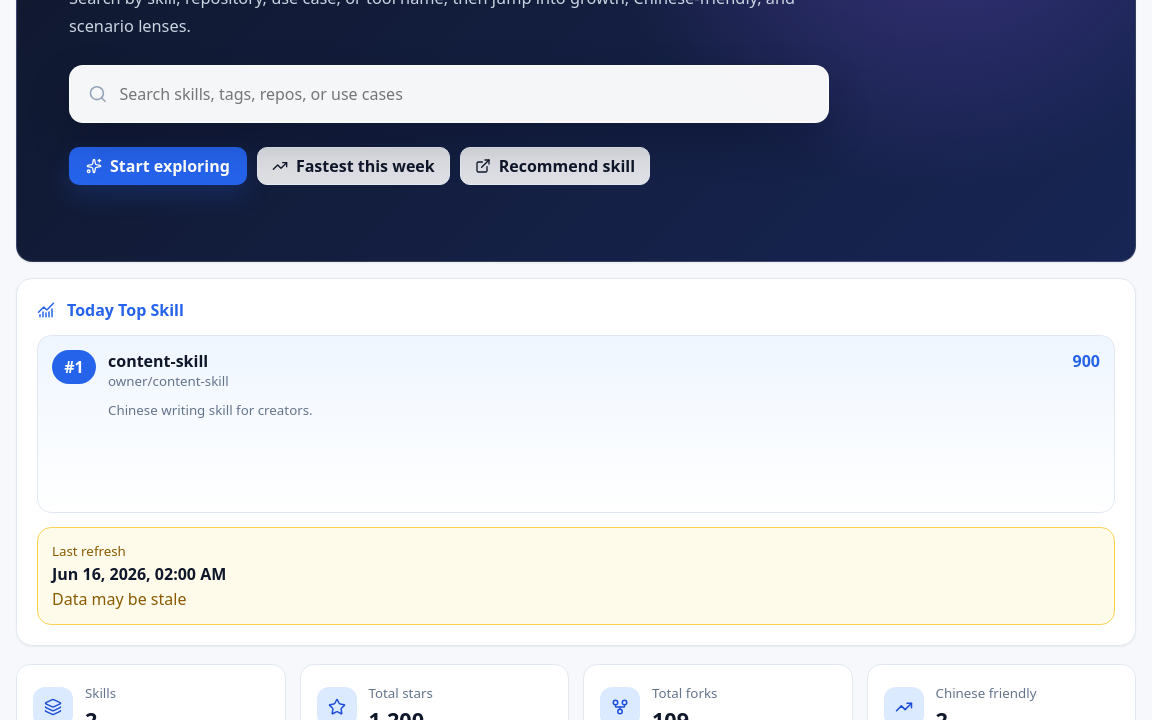
Test: App › opens a detail drawer with GitHub actions and skill paths
(page scrolled)
Click the text "content-skill": click(158, 361) [108,350,208,372]
(page scrolled)
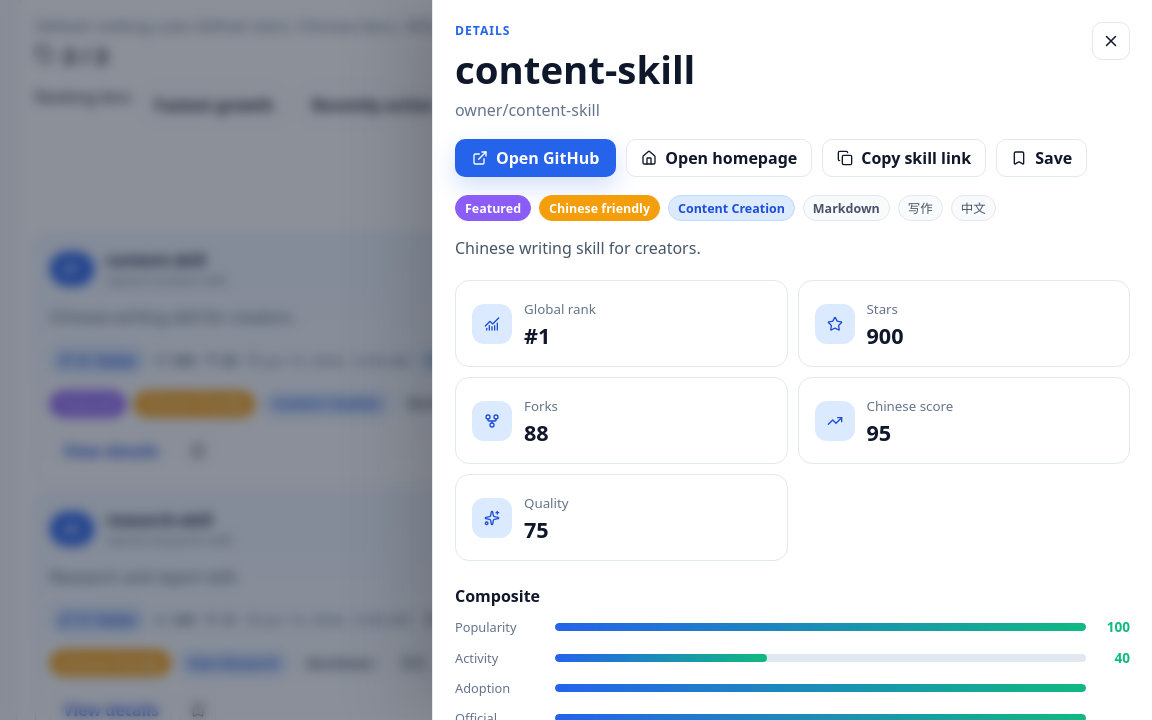
Result: the dialog "content-skill" is shown
Result: the link "Open GitHub" is shown at [455,139,616,177]
Result: the link "Open homepage" is shown at [626,139,812,177]
